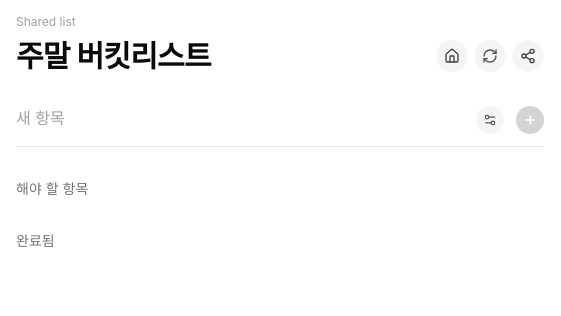
Test: SharedListPage › keeps focus and shows the new item immediately after Enter submit
Type "한강 산책" into the field with placeholder "새 항목" at (240, 118), box [16,98,464,138]
Then press Enter
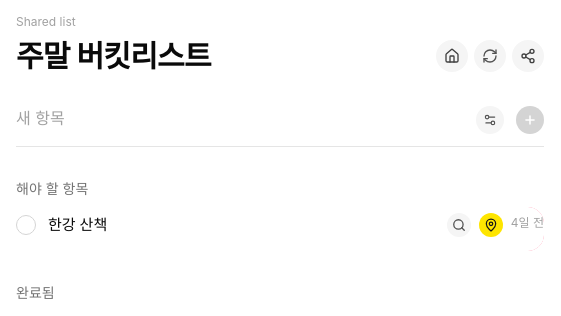
Check: the heading "한강 산책" is shown, box [48,213,107,237]
